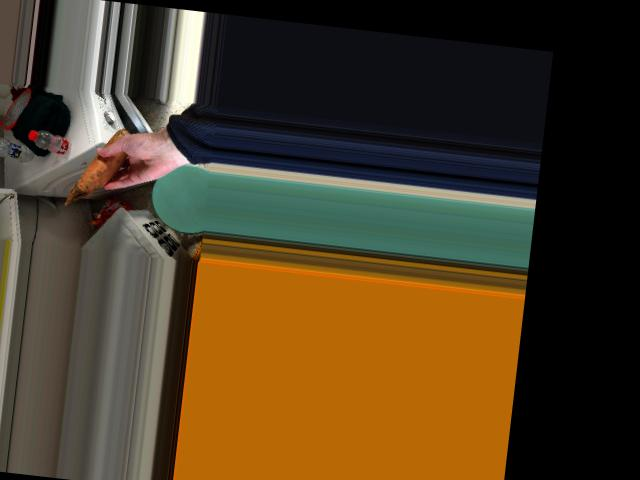sweet_potato: (88, 128, 138, 185)
